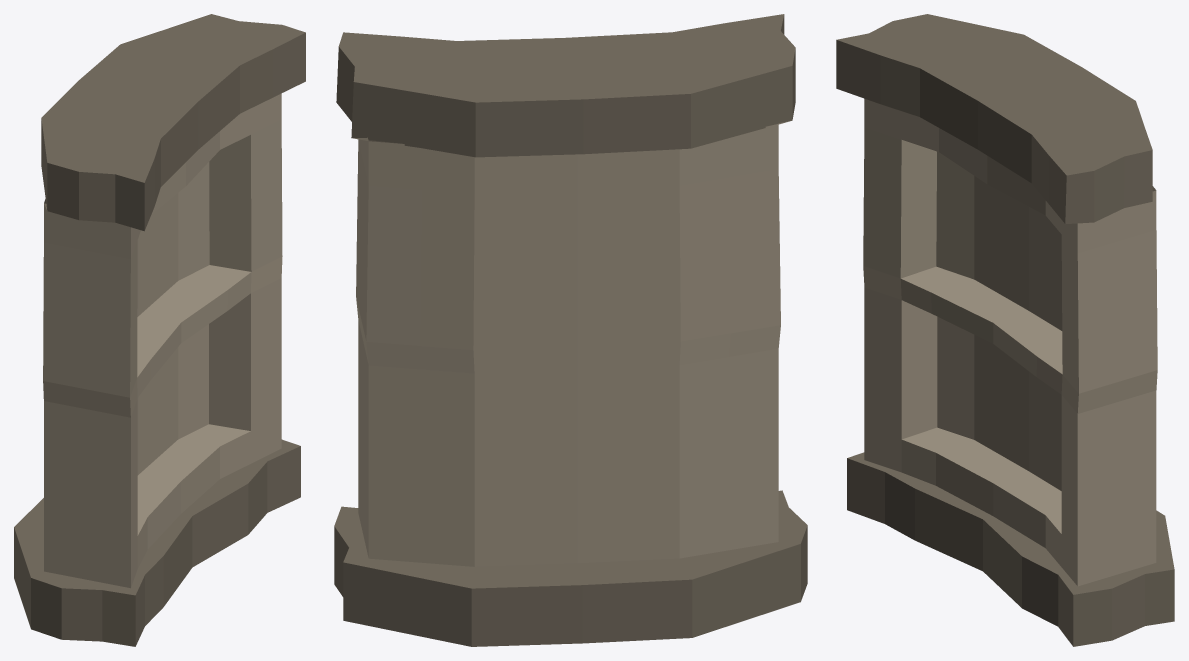
Rendered from bookshelf.fbx.
3 renders of one model, left to right at view 1: azimuth 30°, elevation 25°; view 2: azimuth 150°, elevation 25°; view 3: azimuth 270°, elevation 25°, orthographic. The views are drawn at different scales.
Parts seen in each view (by area): view 1: bookshelf; view 2: bookshelf; view 3: bookshelf.
Boxes of the visible parts, x1,y1,x2,y2 form: bookshelf: (14,14,305,646); bookshelf: (334,14,807,646); bookshelf: (836,14,1174,646).
Size of the model in its own units: 2.17 by 2.85 by 1.85.
